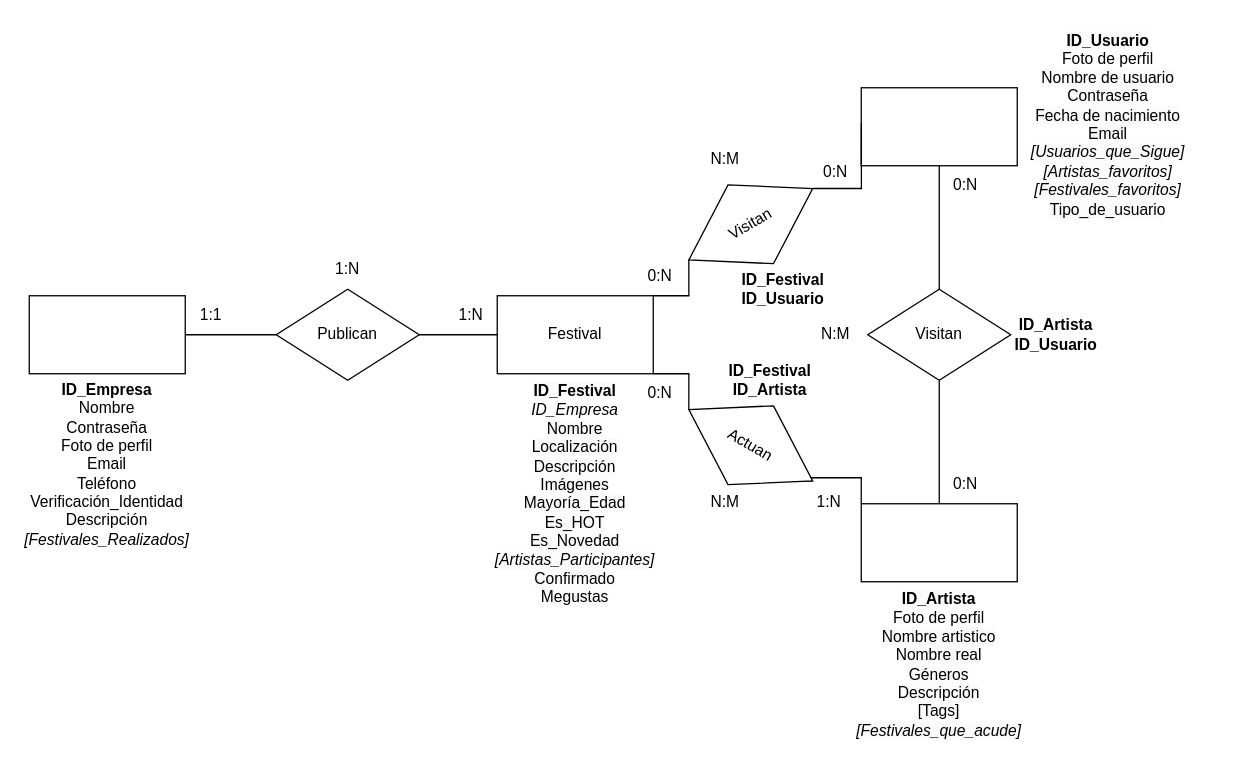
The diagram is 1234 pixels wide and 762 high, and some of its shapes have lost their labels. Here are the shapes that lost their labels. From the top down, the centre of each, then its label:
(x=938, y=126): Usuario
(x=106, y=334): Empresa
(x=938, y=542): Artista
